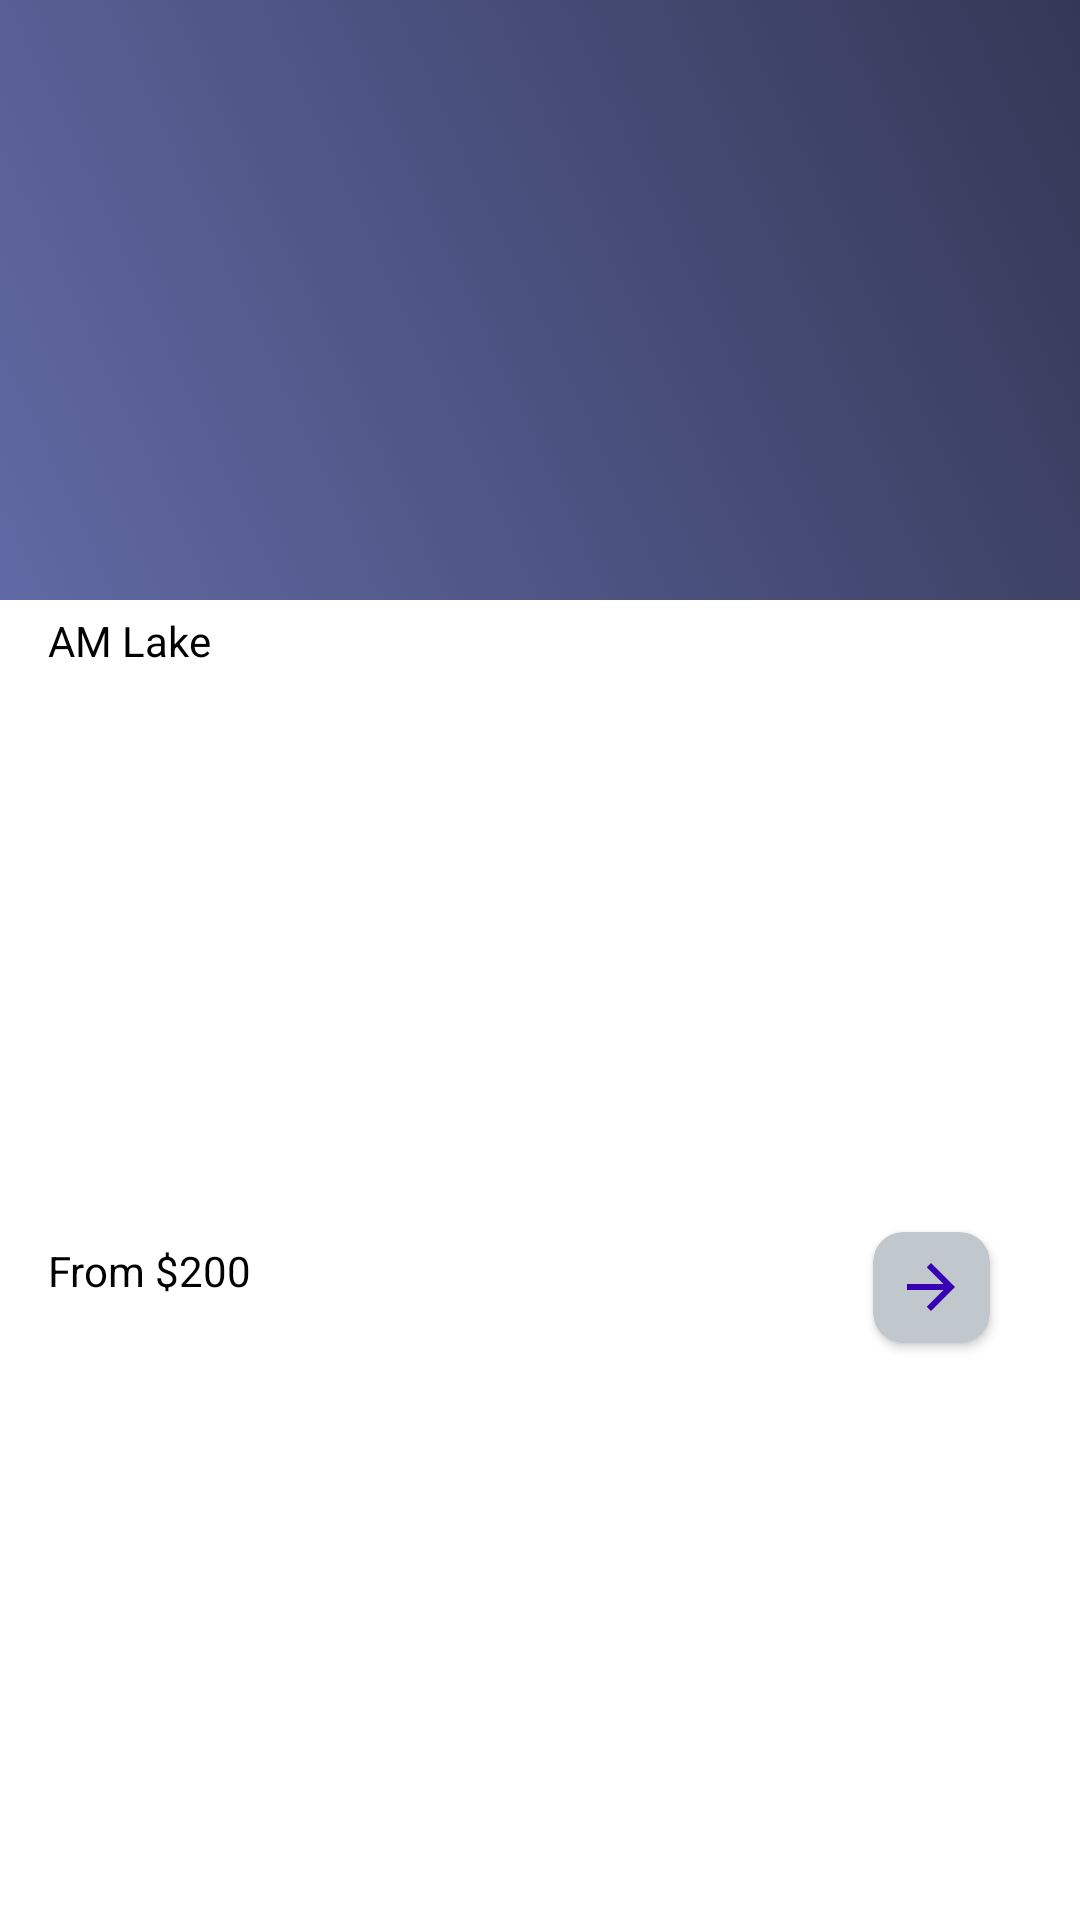

Icon click points for this 1080px x 1920px phone screenshot, format (x,y):
arrow forward: (931,1287)
